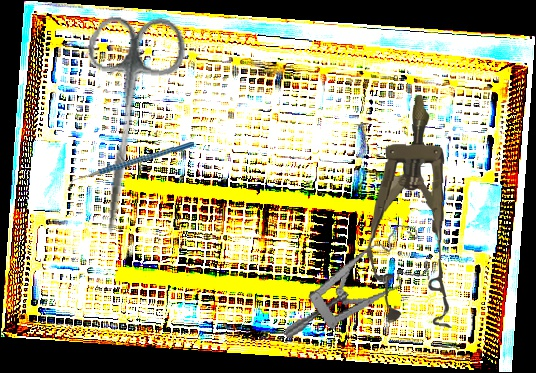Chopper: (67, 137, 194, 195)
Iris Scissors: (64, 9, 190, 241)
Speculum: (363, 92, 464, 329), (269, 221, 438, 340)
